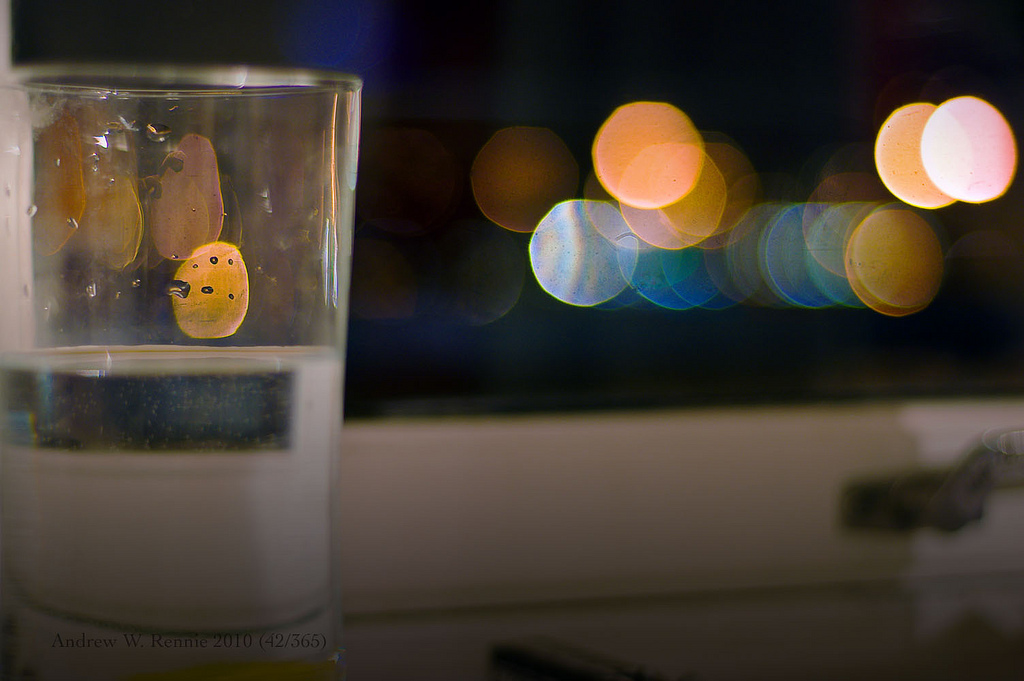glass of water: (4, 76, 356, 654)
